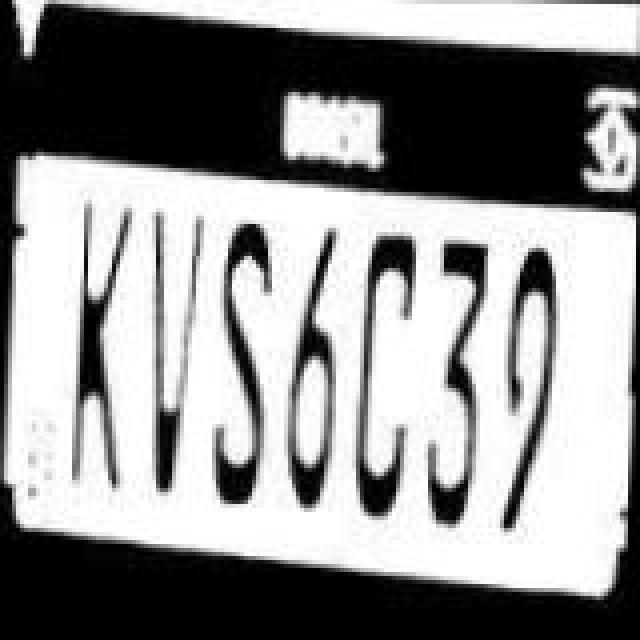3: (412, 214, 496, 534)
6: (270, 208, 358, 520)
9: (486, 224, 574, 540)
C: (346, 216, 426, 532)
K: (46, 186, 138, 498)
S: (194, 202, 282, 510)
V: (128, 194, 204, 510)
